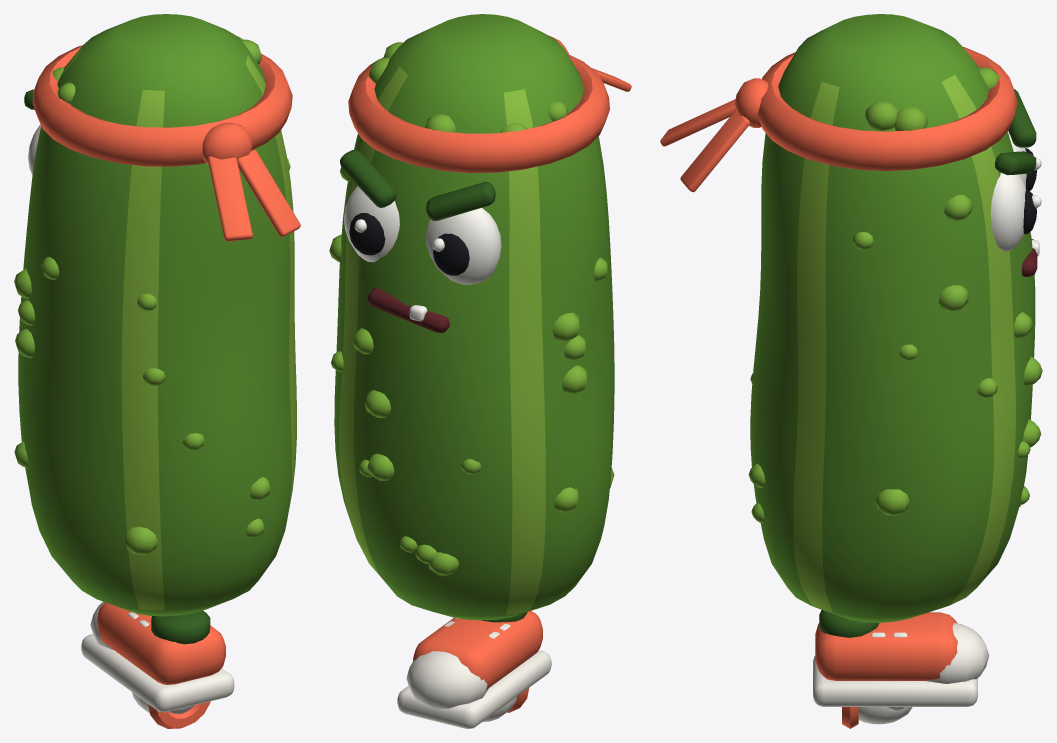
The model's file is pickle.glb.
The picture shows the model from 3 angles, left to right: view 1: azimuth 30°, elevation 25°; view 2: azimuth 150°, elevation 25°; view 3: azimuth 270°, elevation 25°; orthographic projection.
Parts seen in each view (by area): view 1: Body, Foot, Hand; view 2: Body, Foot; view 3: Body, Foot, Hand.
Part boxes in pixels (<box>): Body: <box>14,14,300,616</box>; Foot: <box>81,601,234,712</box>; Hand: <box>132,692,210,728</box>; Body: <box>329,14,631,620</box>; Foot: <box>397,611,551,728</box>; Body: <box>660,14,1042,622</box>; Foot: <box>813,610,989,706</box>; Hand: <box>842,707,912,728</box>.
Bounding box in the file's own units: 0.6153 × 1.57 × 0.7871.
